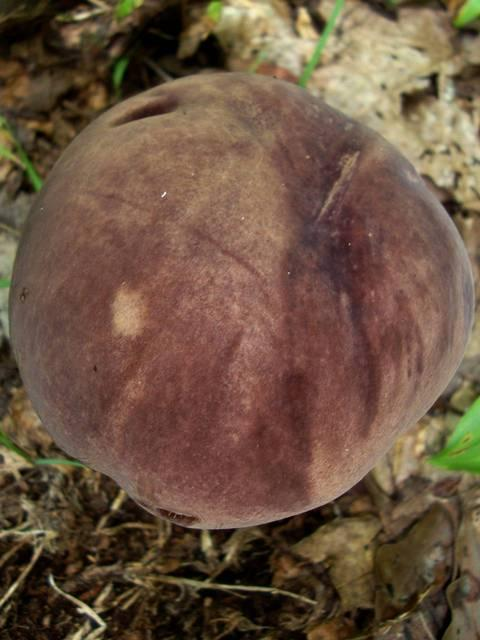poisonous_mushroom: (6, 68, 477, 532)
